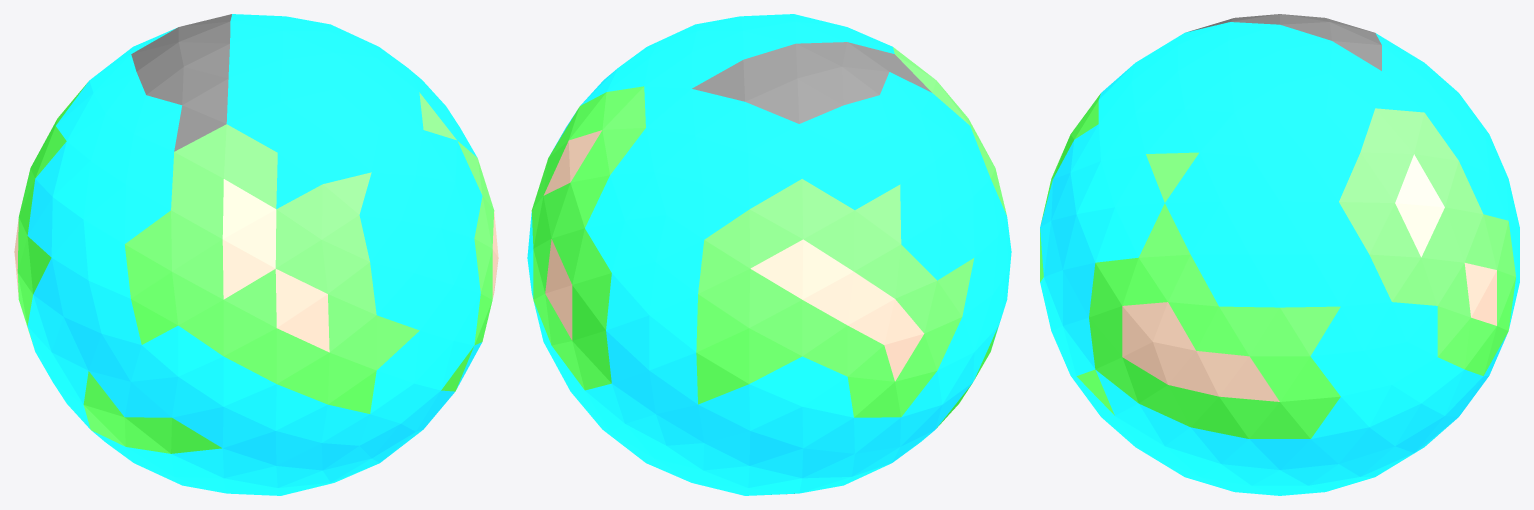
The model's file is SphereWorld.fbx.
The picture shows the model from 3 angles, left to right: view 1: azimuth 30°, elevation 25°; view 2: azimuth 150°, elevation 25°; view 3: azimuth 270°, elevation 25°; orthographic projection.
Visible parts, largest first — view 1: triSphere1; view 2: triSphere1; view 3: triSphere1.
Part boxes in pixels (x1=…): triSphere1: x1=14, y1=14, x2=498, y2=495; triSphere1: x1=527, y1=14, x2=1011, y2=495; triSphere1: x1=1040, y1=14, x2=1519, y2=495.
Bounding box in the file's own units: 1.98 × 1.98 × 1.98.
